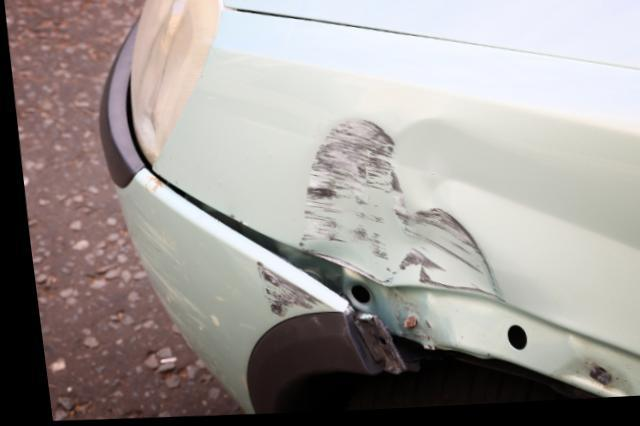dislocated part: (133, 167, 377, 319)
scratch: (293, 123, 490, 301), (130, 212, 206, 343), (244, 259, 314, 321)
